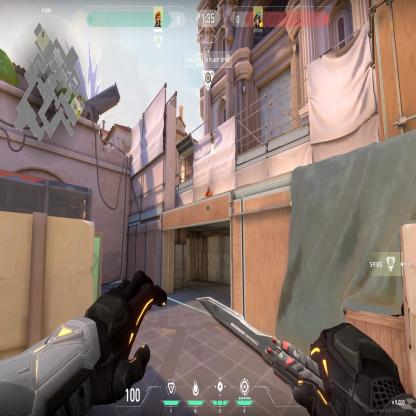enemy: (205, 186, 212, 198)
